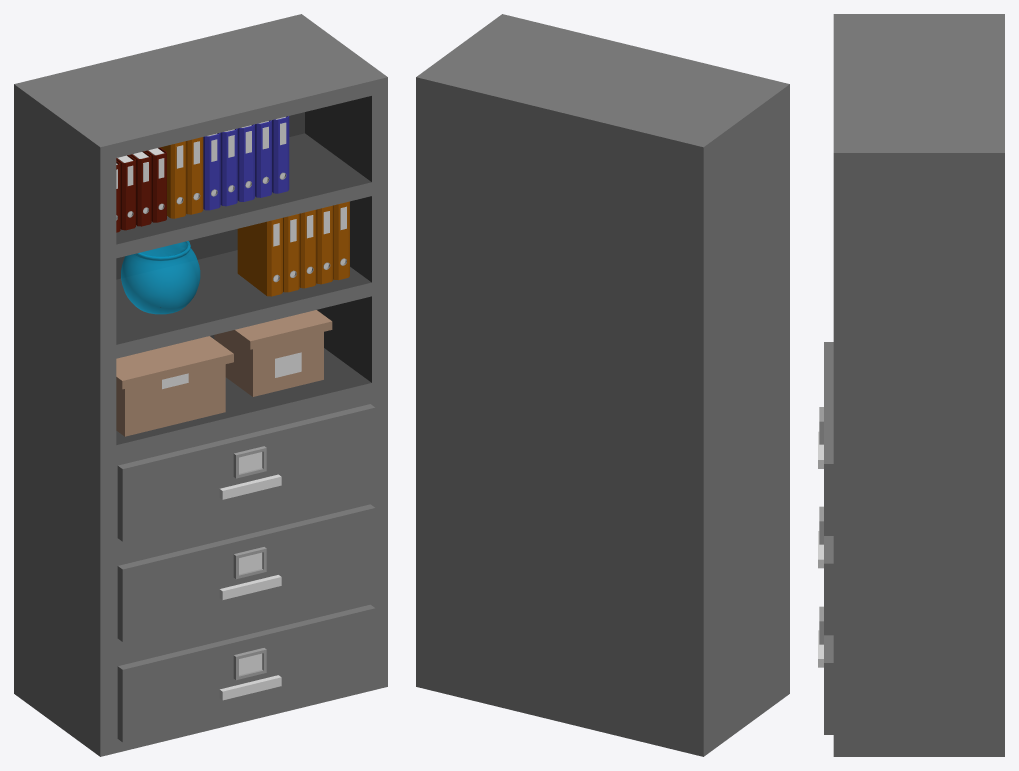
Rendered from etagere.fbx.
The picture shows the model from 3 angles, left to right: view 1: azimuth 30°, elevation 25°; view 2: azimuth 150°, elevation 25°; view 3: azimuth 270°, elevation 25°; orthographic projection.
Visible parts, largest first — view 1: etagere; view 2: etagere; view 3: etagere.
Boxes of the visible parts, bbox=[...] form: etagere: bbox=[14, 14, 387, 756]; etagere: bbox=[416, 14, 789, 756]; etagere: bbox=[818, 14, 1004, 756].
Bounding box in the file's own units: 1 × 2.03 × 0.5675.
